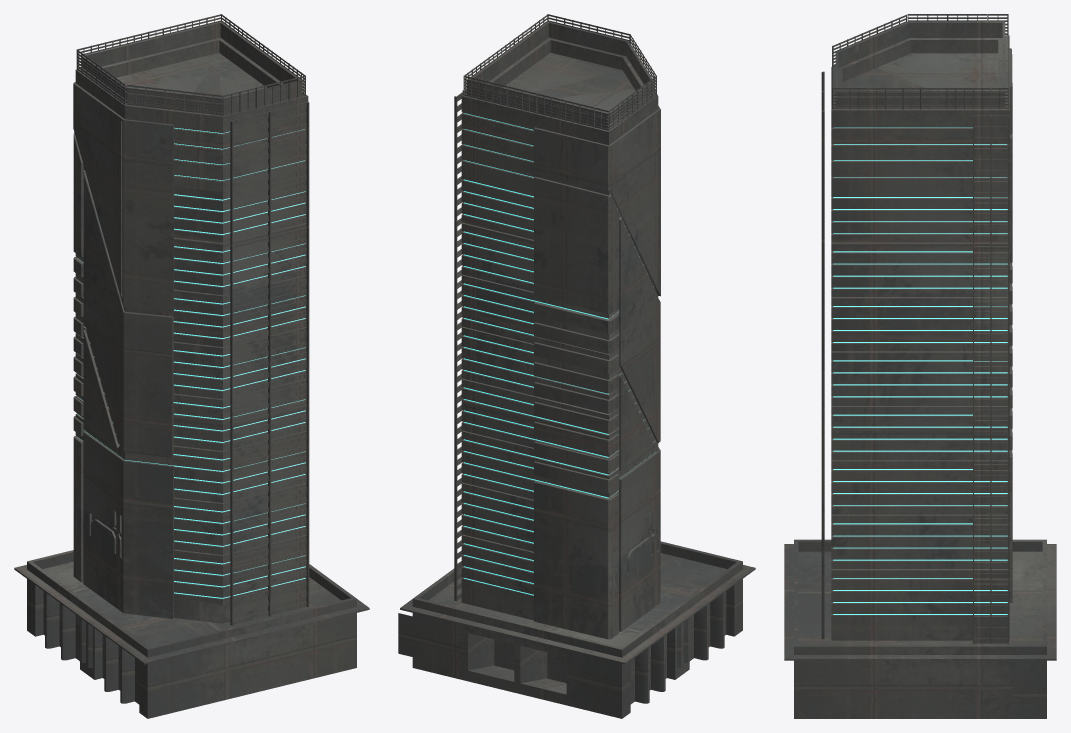
File: glowing-office-building.glb
3 renders of one model, left to right at view 1: azimuth 30°, elevation 25°; view 2: azimuth 150°, elevation 25°; view 3: azimuth 270°, elevation 25°, orthographic. The views are drawn at different scales.
Visible parts, largest first — view 1: glowing-office-building; view 2: glowing-office-building; view 3: glowing-office-building.
Part boxes in pixels (x1,y1,x2,y2): glowing-office-building: (14,14,369,718); glowing-office-building: (398,14,755,718); glowing-office-building: (784,14,1056,718).
Bounding box in the file's own units: 65.11 × 159 × 63.36.
3 materials, 2 textured.
